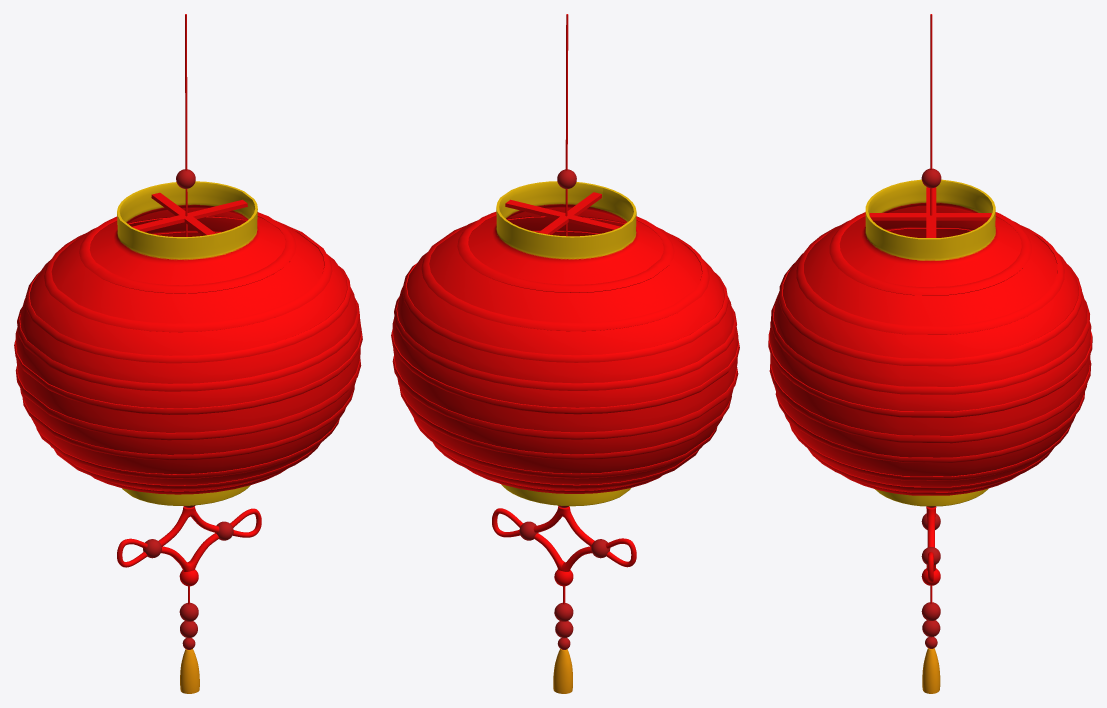
Rendered from Lanternv001.fbx.
3 views of the same model, side by side, from view 1: azimuth 30°, elevation 25°; view 2: azimuth 150°, elevation 25°; view 3: azimuth 270°, elevation 25° (orthographic).
Visible parts, largest first — view 1: Lanternv001; view 2: Lanternv001; view 3: Lanternv001.
Part boxes in pixels (x1,y1,x2,y2): Lanternv001: [14, 14, 362, 693]; Lanternv001: [391, 14, 739, 693]; Lanternv001: [768, 14, 1092, 693].
Size of the model in its own units: 50.37 by 107 by 46.62.
